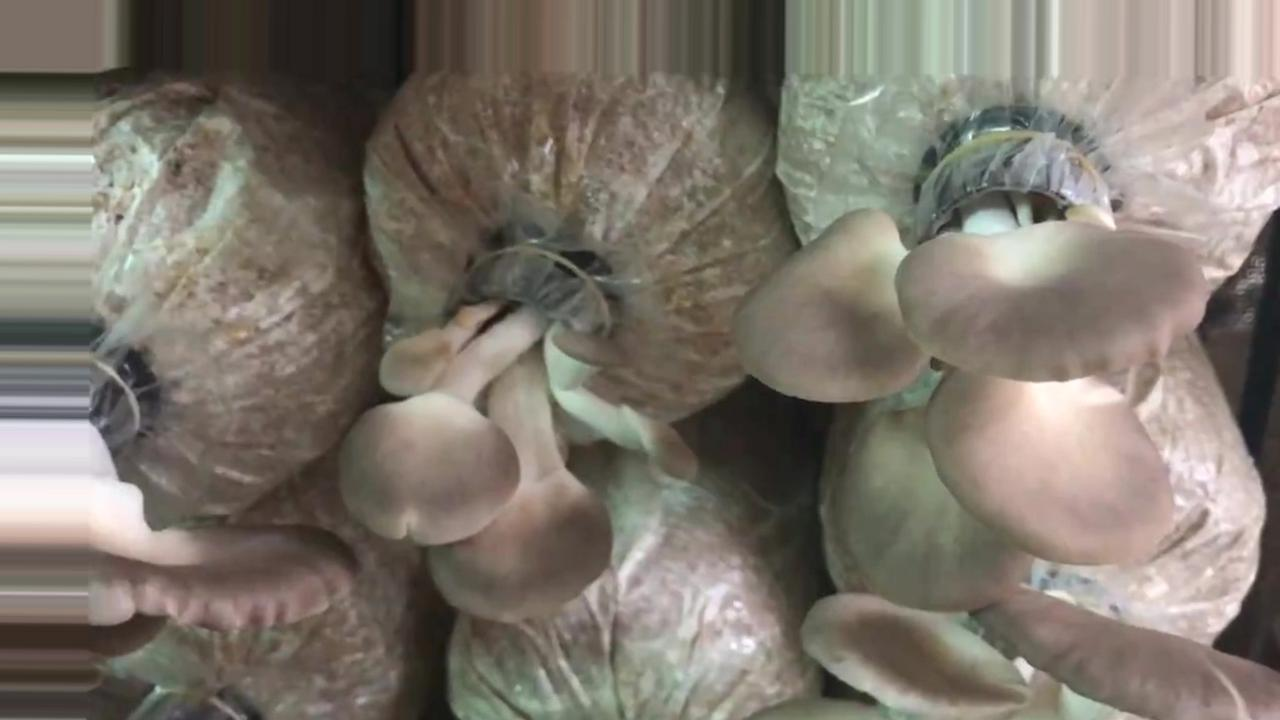nam: (750, 100, 1207, 610), (2, 339, 357, 720), (352, 243, 689, 620), (742, 581, 1280, 715)
